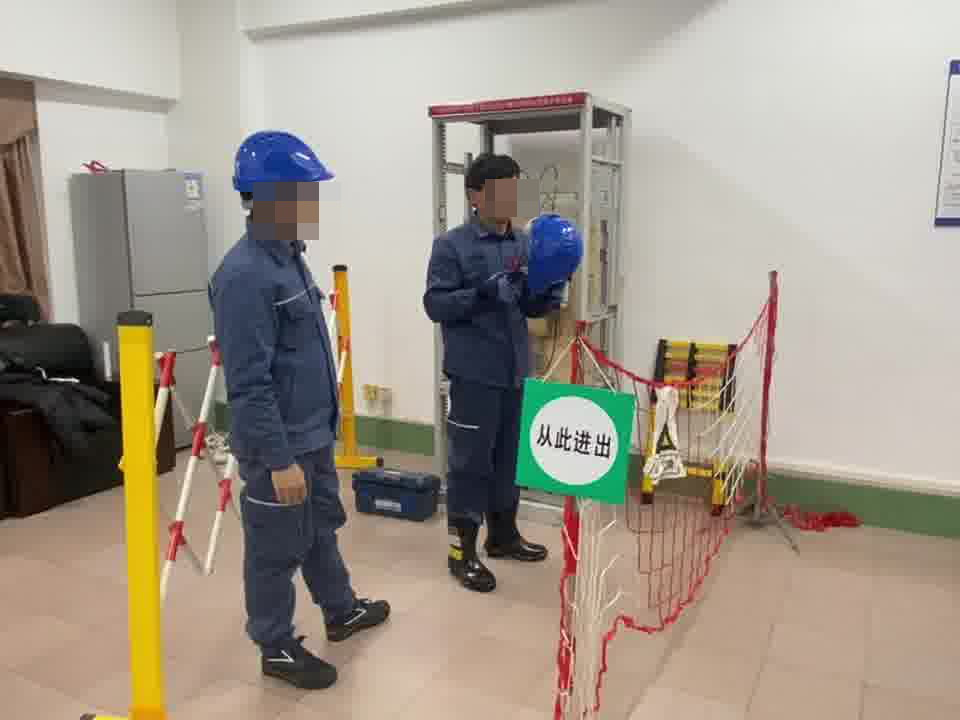downsuit: (236, 458, 356, 638), (442, 388, 523, 536)
glove: (477, 268, 520, 309)
halt: (231, 130, 334, 241)
hand: (272, 465, 307, 508)
inear: (256, 185, 299, 234)
intosign: (514, 374, 638, 506)
noear: (467, 183, 497, 214)
person: (203, 126, 394, 693), (422, 154, 587, 593)
shoe: (445, 509, 549, 596)
unhalt: (462, 156, 525, 226)
upsuit: (210, 235, 343, 451), (424, 220, 573, 382)
